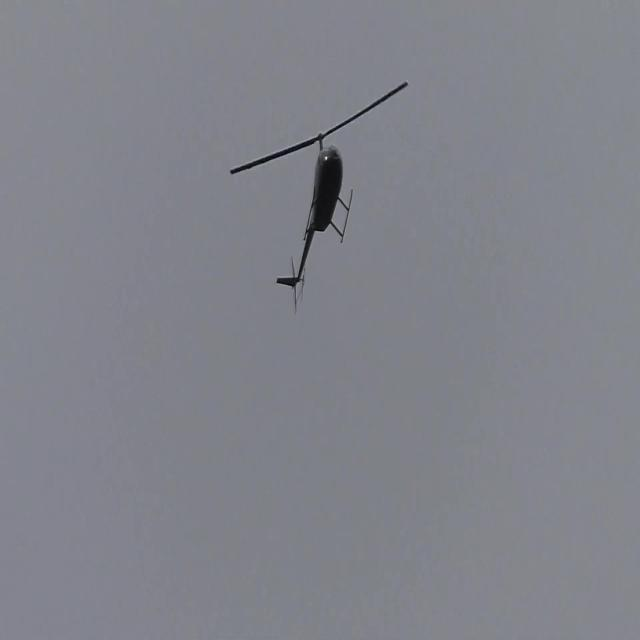CIV_HELO: (274, 130, 354, 290)
